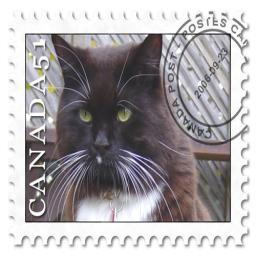catnose: (90, 134, 114, 156)
